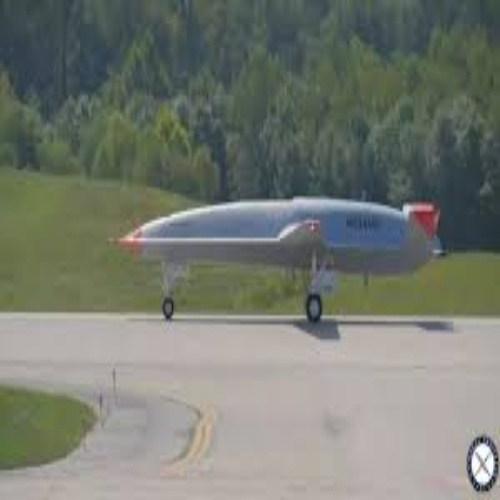uav601: (106, 191, 448, 325)
